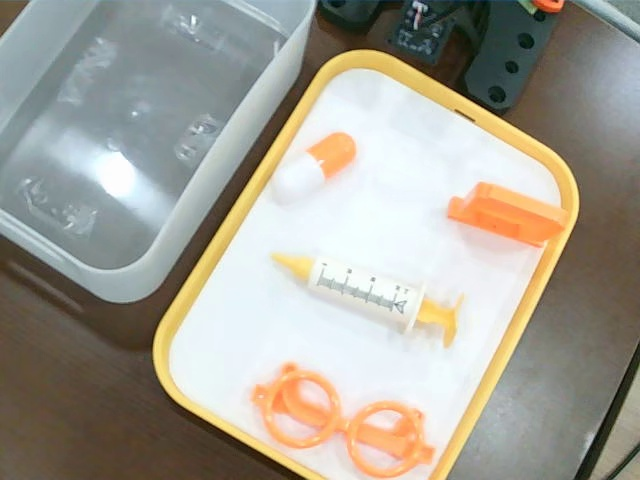pill: (270, 131, 358, 208)
syringe: (270, 249, 464, 347)
